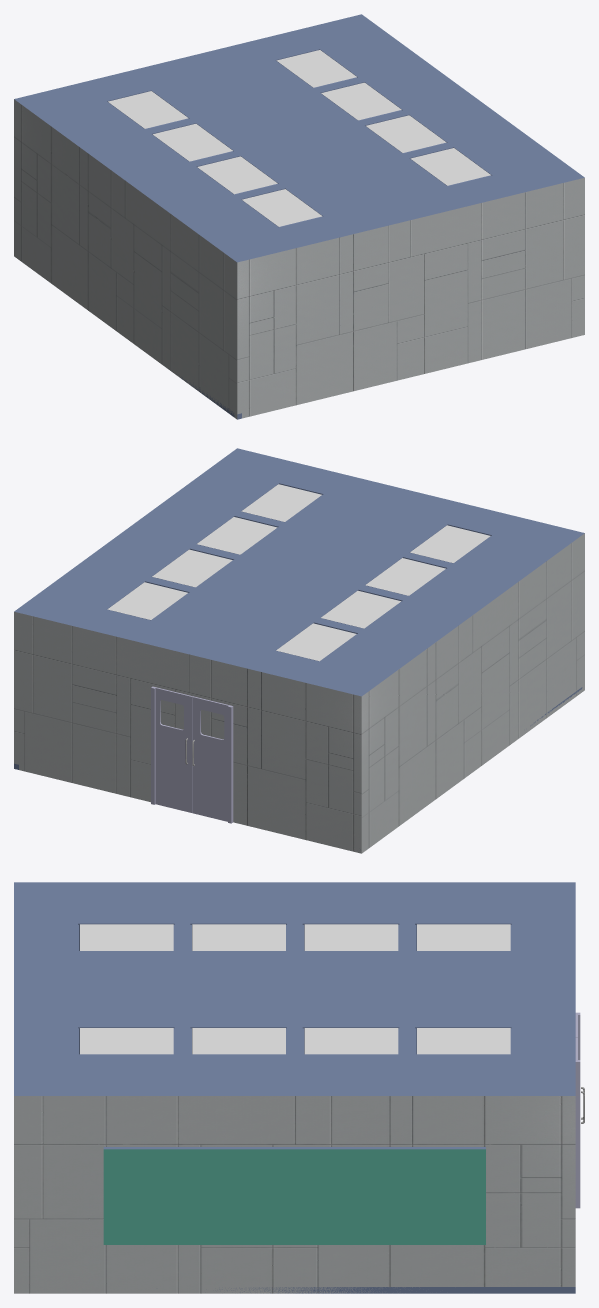
File: Quirofan.fbx
The picture shows the model from 3 angles, top to bottom: view 1: azimuth 30°, elevation 25°; view 2: azimuth 150°, elevation 25°; view 3: azimuth 270°, elevation 25°; orthographic projection. The views are drawn at different scales.
Visible parts, largest first — view 1: Cube; view 2: Cube; view 3: Cube.
Part boxes in pixels (x1,y1,x2,y2): Cube: [14, 14, 584, 419]; Cube: [14, 448, 584, 853]; Cube: [14, 882, 584, 1293].
Size of the model in its own units: 691 by 772 by 295.
Materials: 8 (2 with a texture image).
